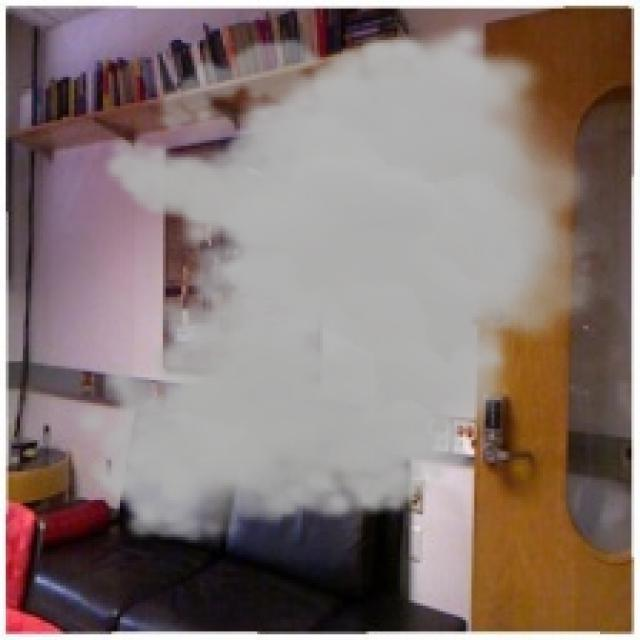Smoke: (69, 20, 612, 546)
